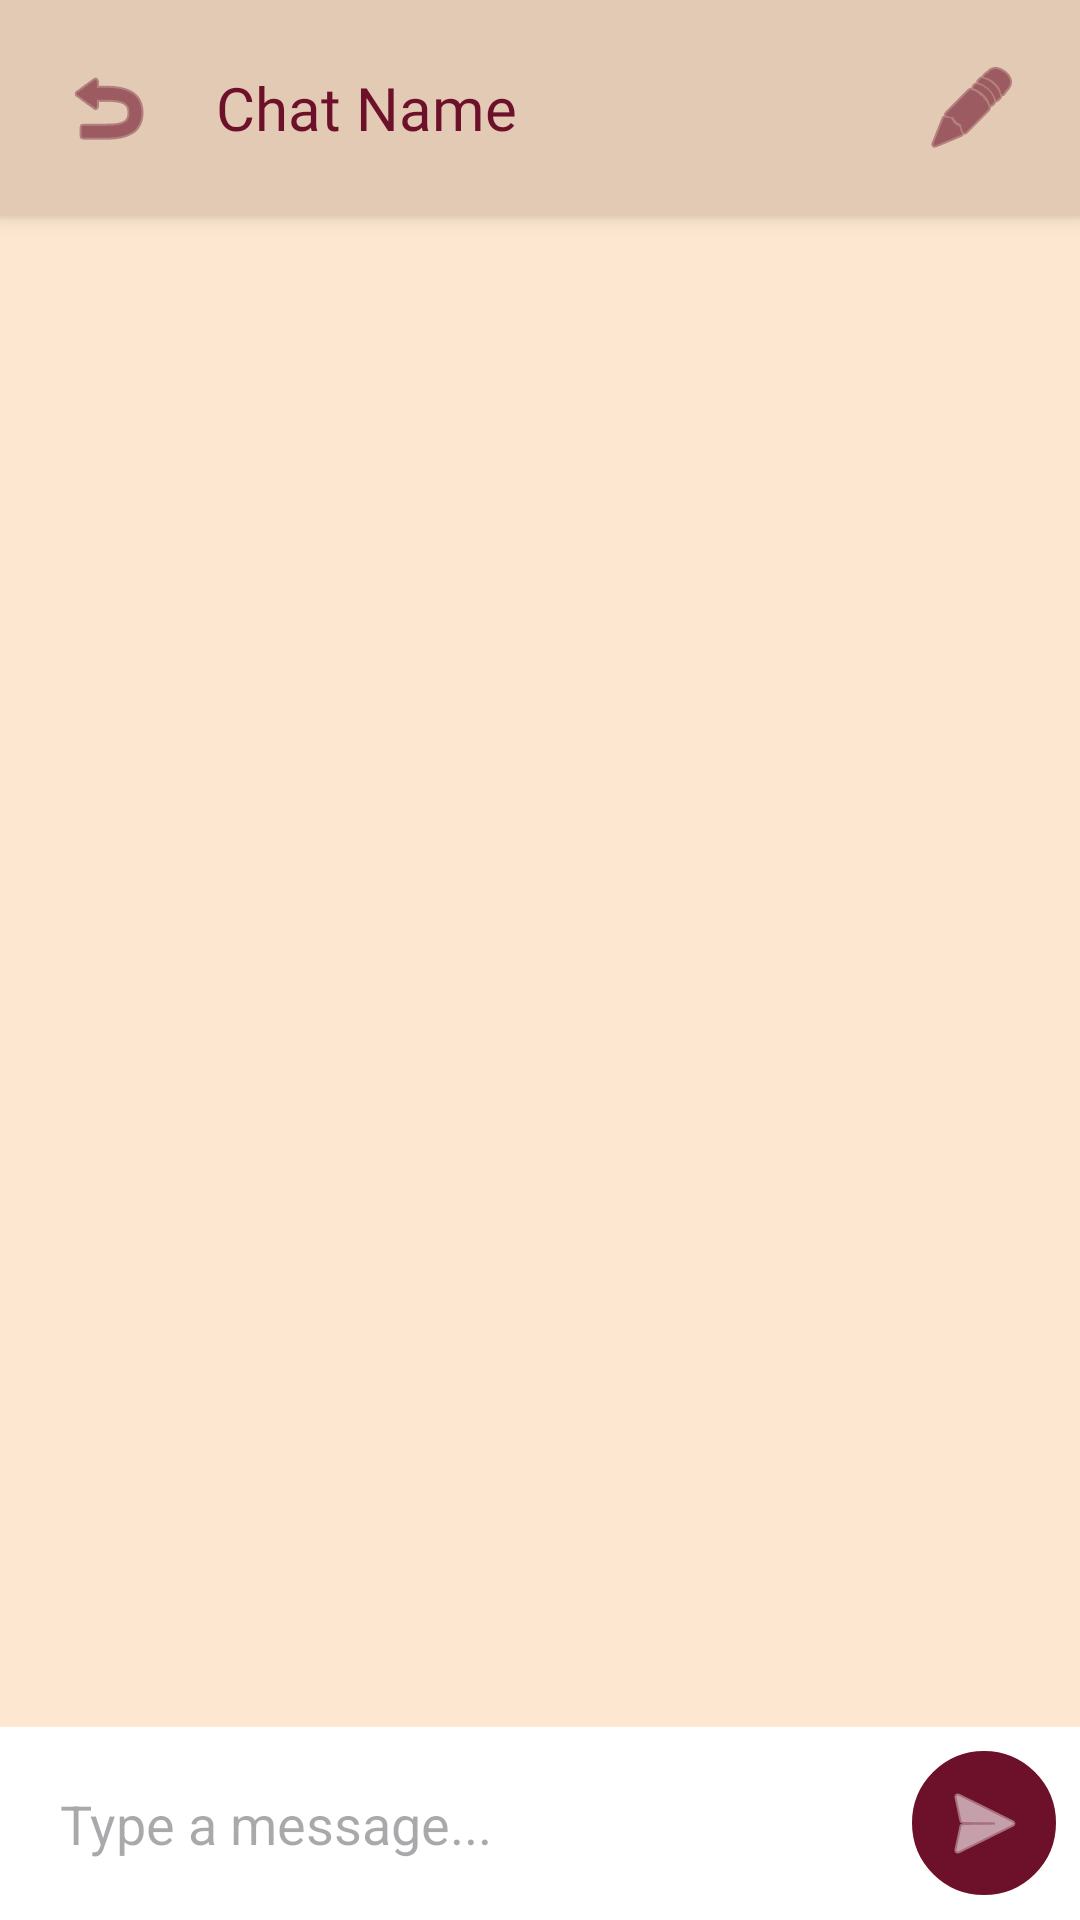

Locate icon controls on the screen. Image size 1080*1920, boxes as (x1=x1, y1=y1, x2=x2, y2=y2).
edit: (x1=931, y1=67, x2=1012, y2=148)
revert: (x1=75, y1=77, x2=144, y2=140)
send: (x1=912, y1=1751, x2=1056, y2=1895)
